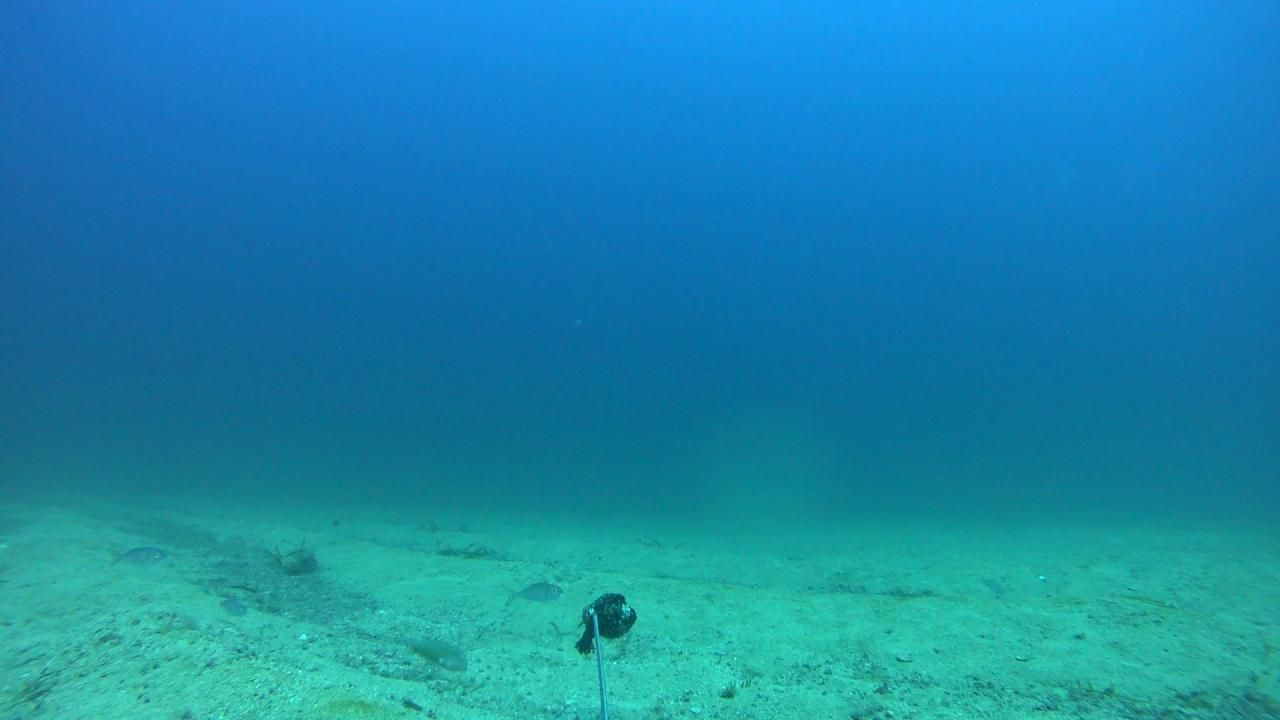myliobatis: (212, 592, 252, 619)
pagellus: (501, 580, 565, 604), (105, 545, 167, 566)
raor: (397, 633, 470, 671)
